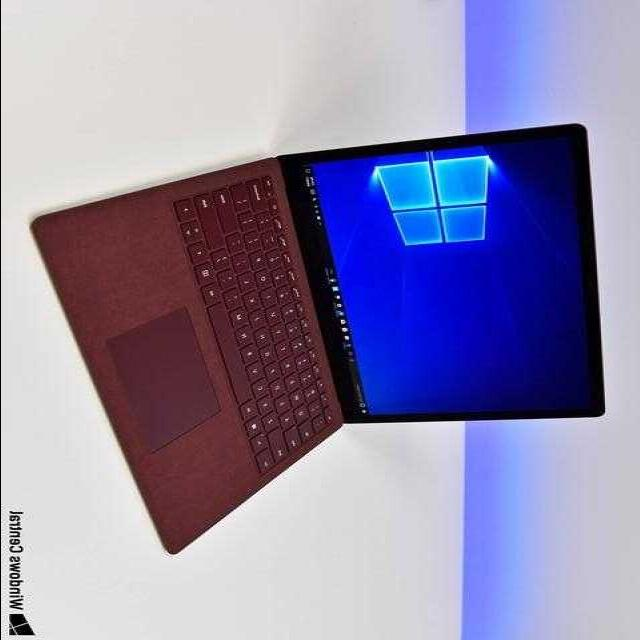laptop: (66, 132, 606, 495)
